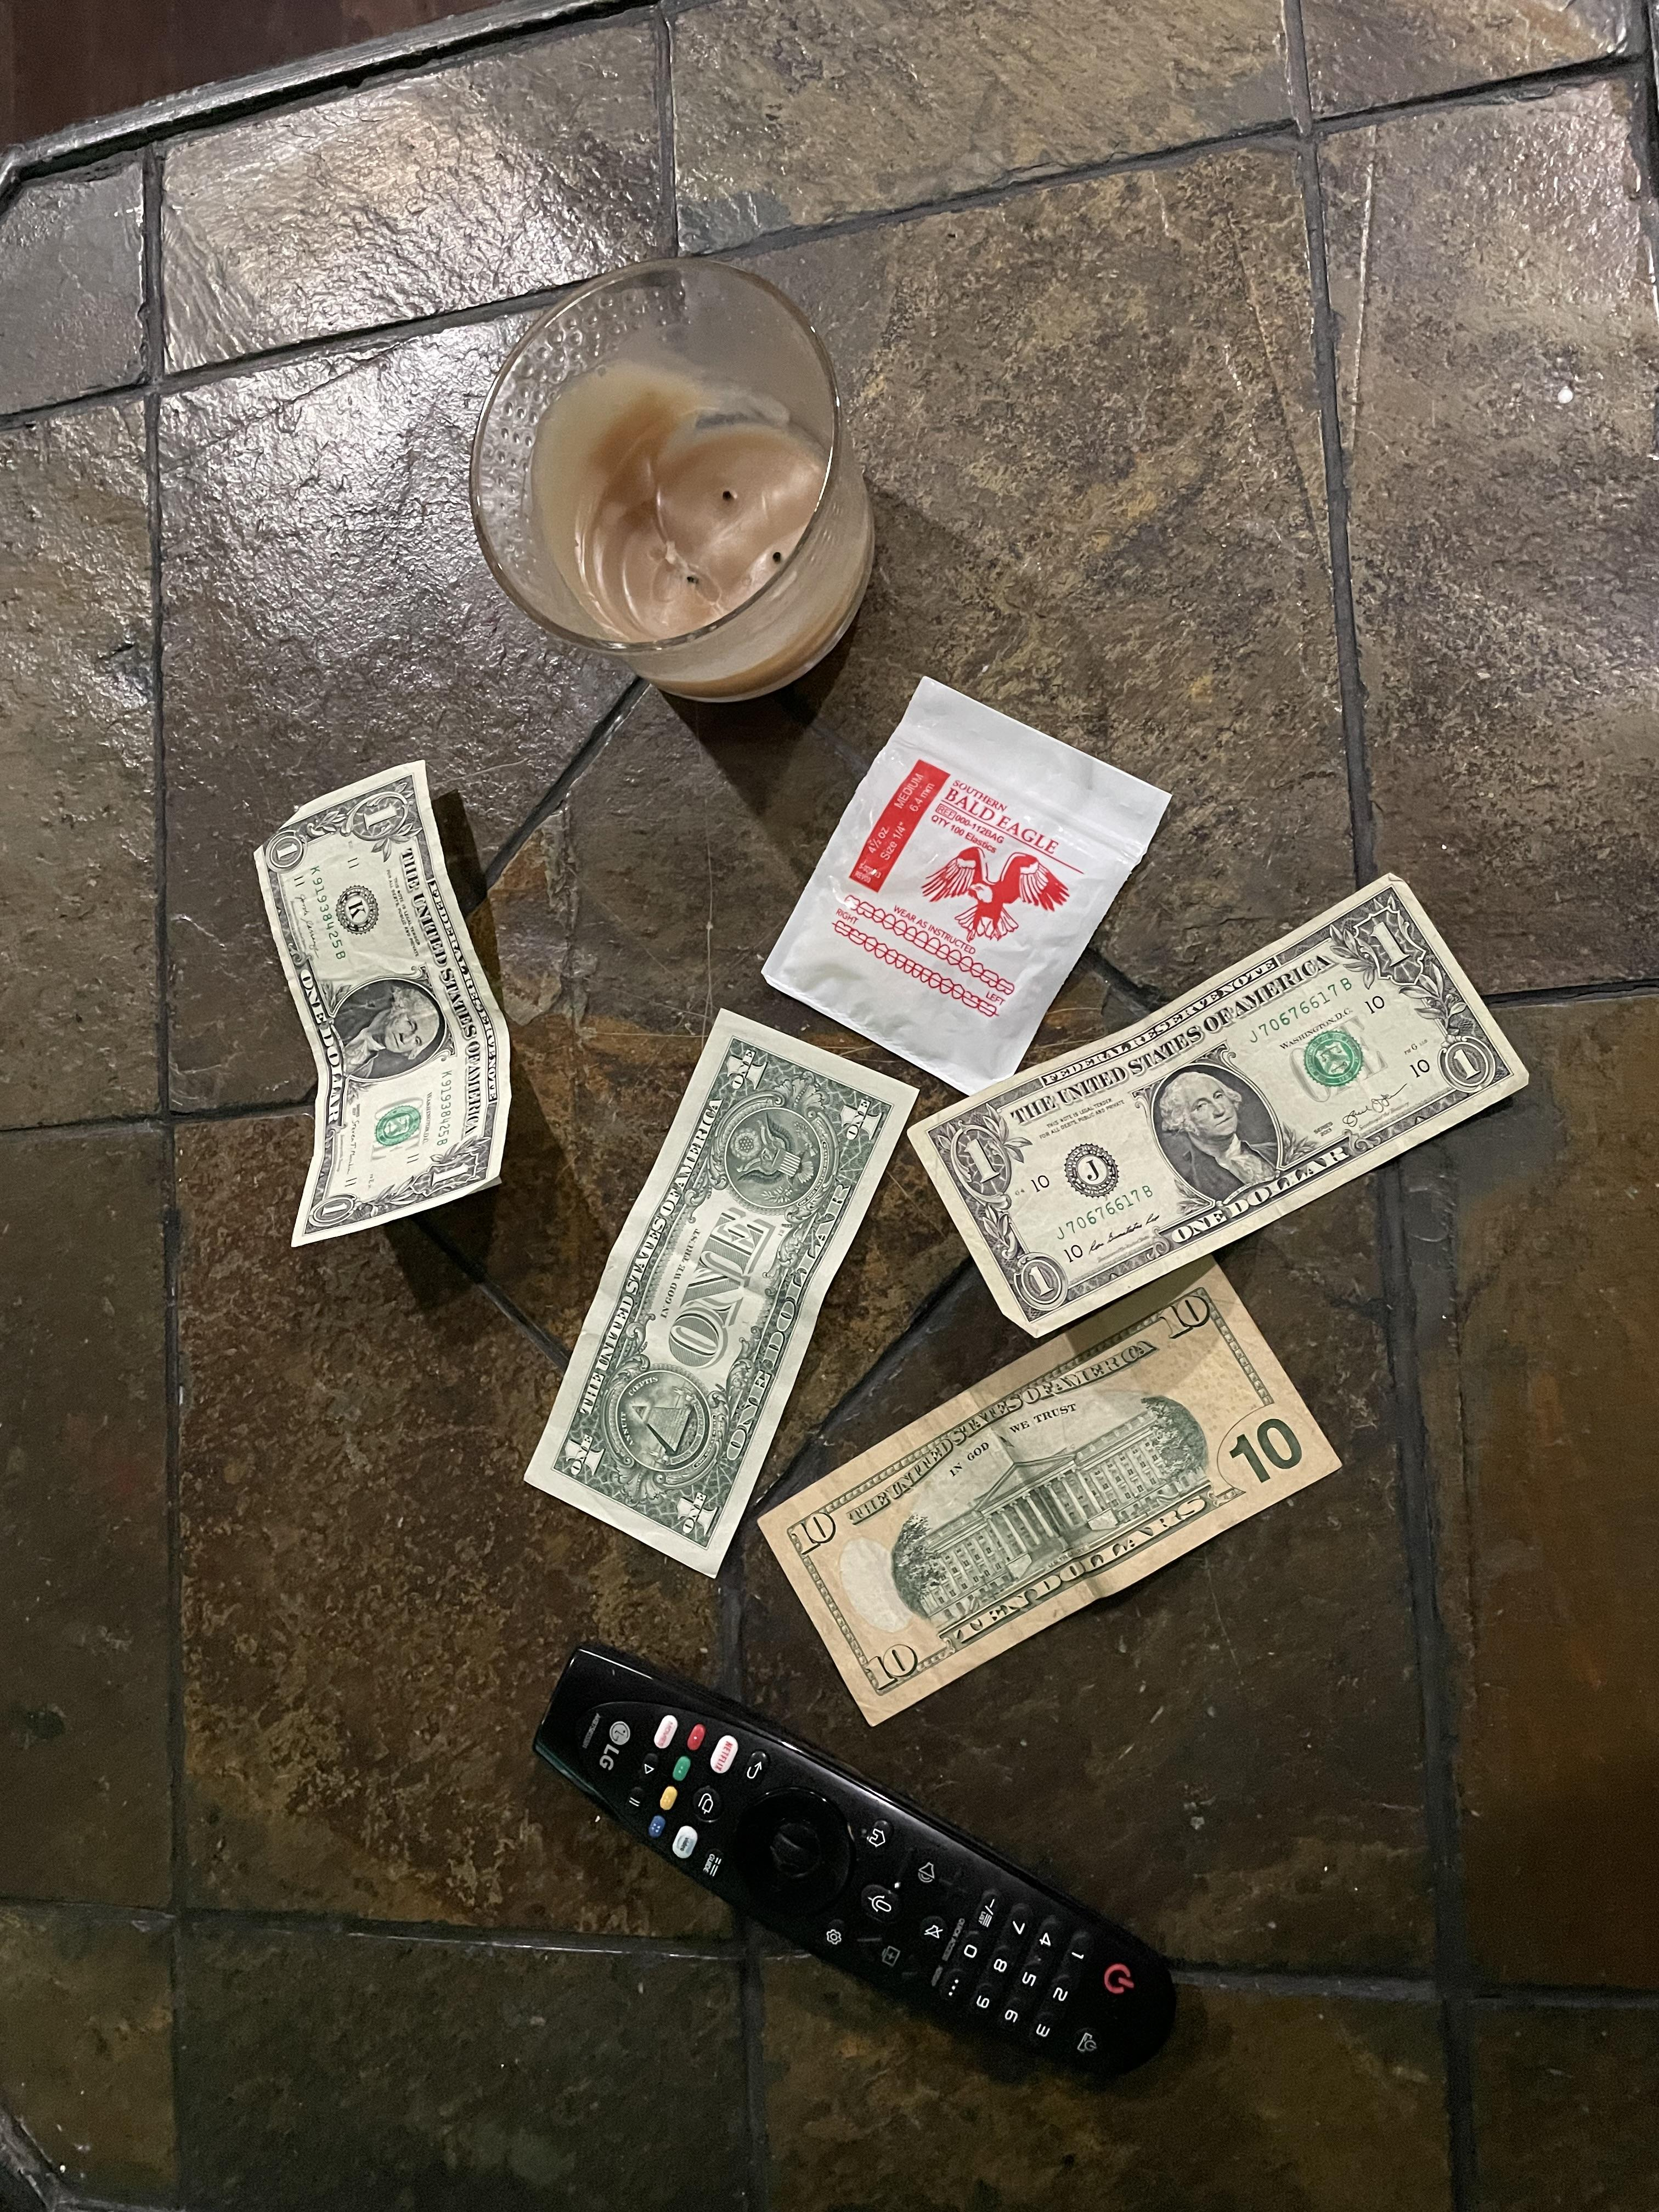OneBill: (911, 853, 1514, 1339), (518, 1015, 922, 1585), (246, 702, 535, 1251)
TenBill: (755, 1240, 1363, 1747)
